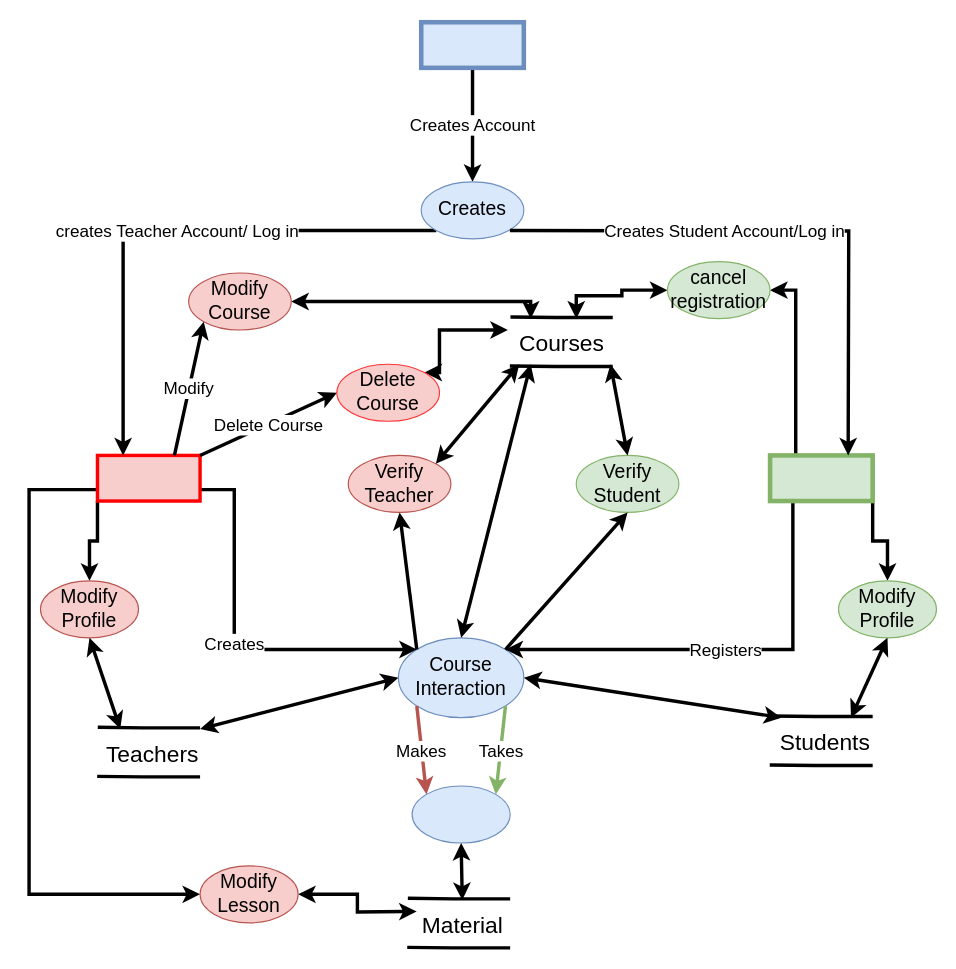
Some shapes in this 956 by 969 pixel diagram are drawn without their labels. Each missing label, with the centre of its shape:
"Lesson" belongs at pixel 460 814.
"Student" belongs at pixel 820 478.
"Teacher" belongs at pixel 148 477.
"User" belongs at pixel 472 44.
